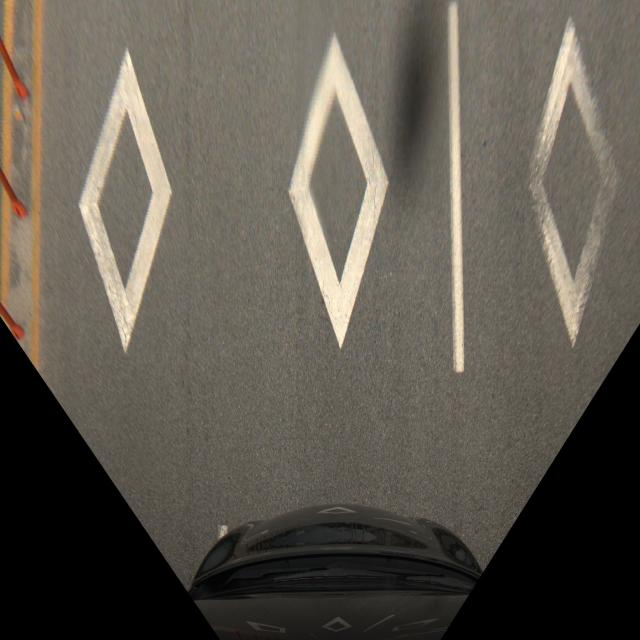diamond: (252, 11, 468, 380)
